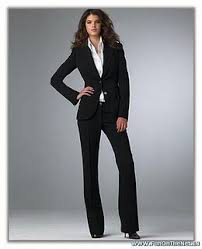F_W_suit jacket: (47, 36, 136, 119)
S_W_pants: (75, 109, 139, 238)
